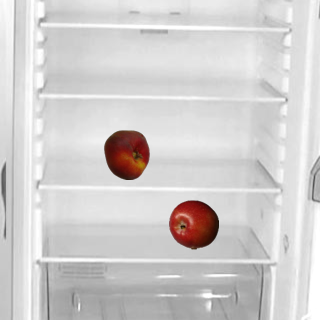Apple Braeburn: (168, 199, 218, 249)
Nectarine Flat: (101, 129, 151, 179)
